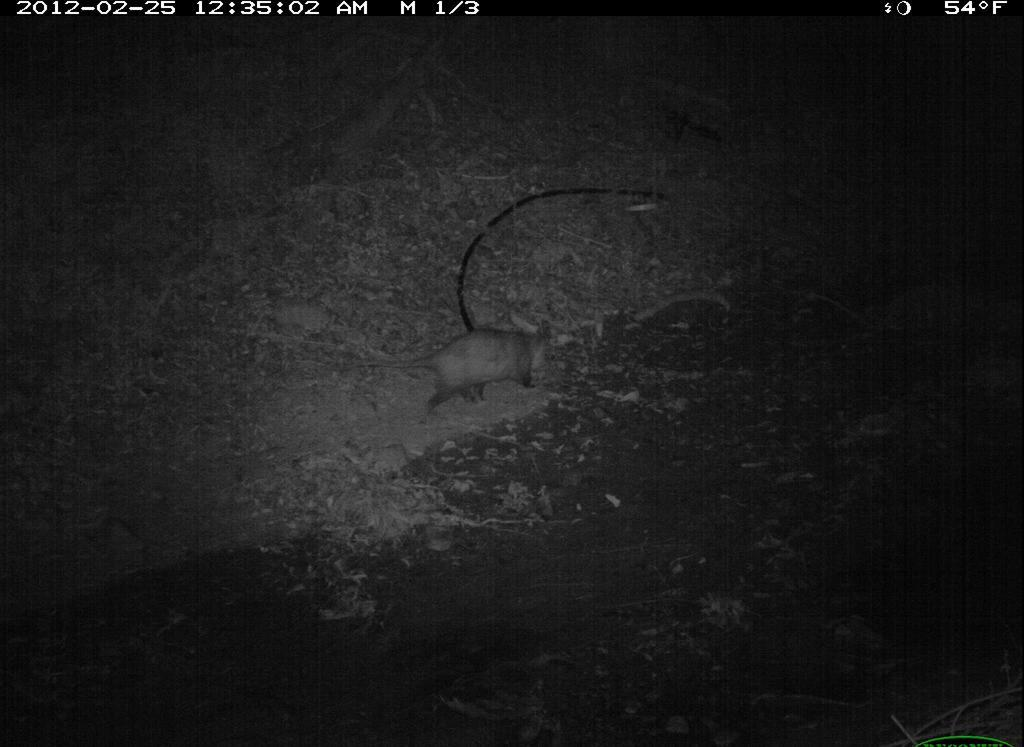opossum: (342, 305, 580, 415)
